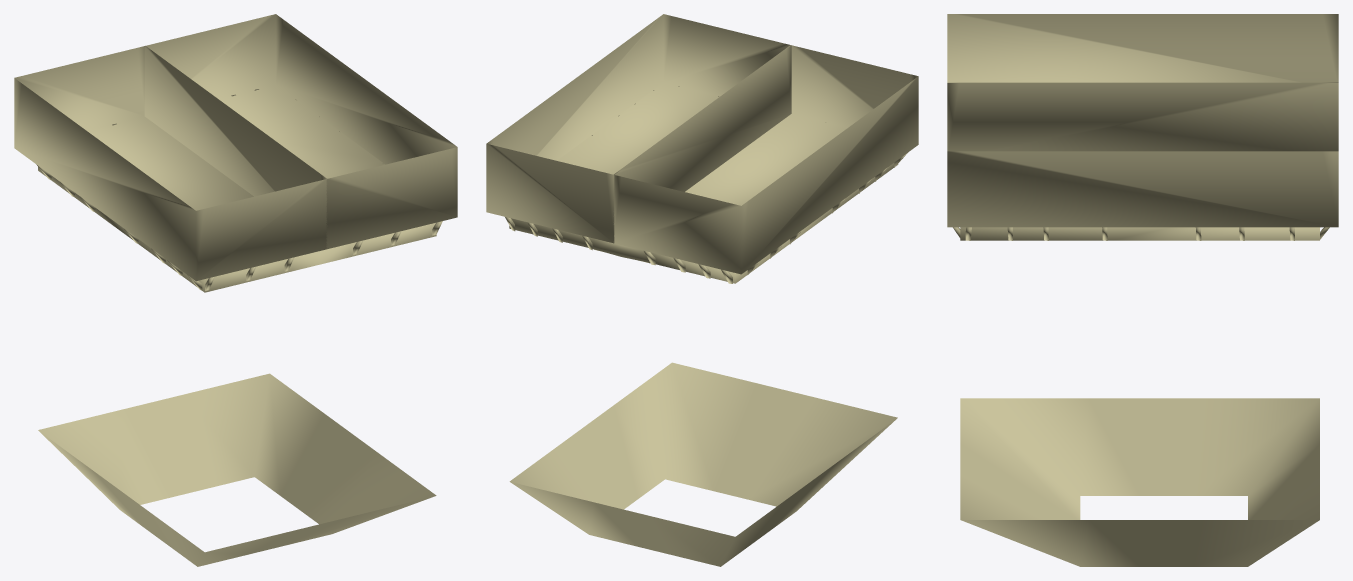
The model's file is Torres Abajo 4.fbx.
3 views of the same model, side by side, from view 1: azimuth 30°, elevation 25°; view 2: azimuth 150°, elevation 25°; view 3: azimuth 270°, elevation 25° (orthographic). The views are drawn at different scales.
Parts seen in each view (by area): view 1: Torre Abajo 2; view 2: Torre Abajo 2; view 3: Torre Abajo 2.
Boxes of the visible parts, box(x1,y1,x2,y2) form: Torre Abajo 2: box(14, 14, 457, 566); Torre Abajo 2: box(486, 14, 918, 566); Torre Abajo 2: box(947, 14, 1338, 566).
Size of the model in its own units: 332 by 505 by 399.
